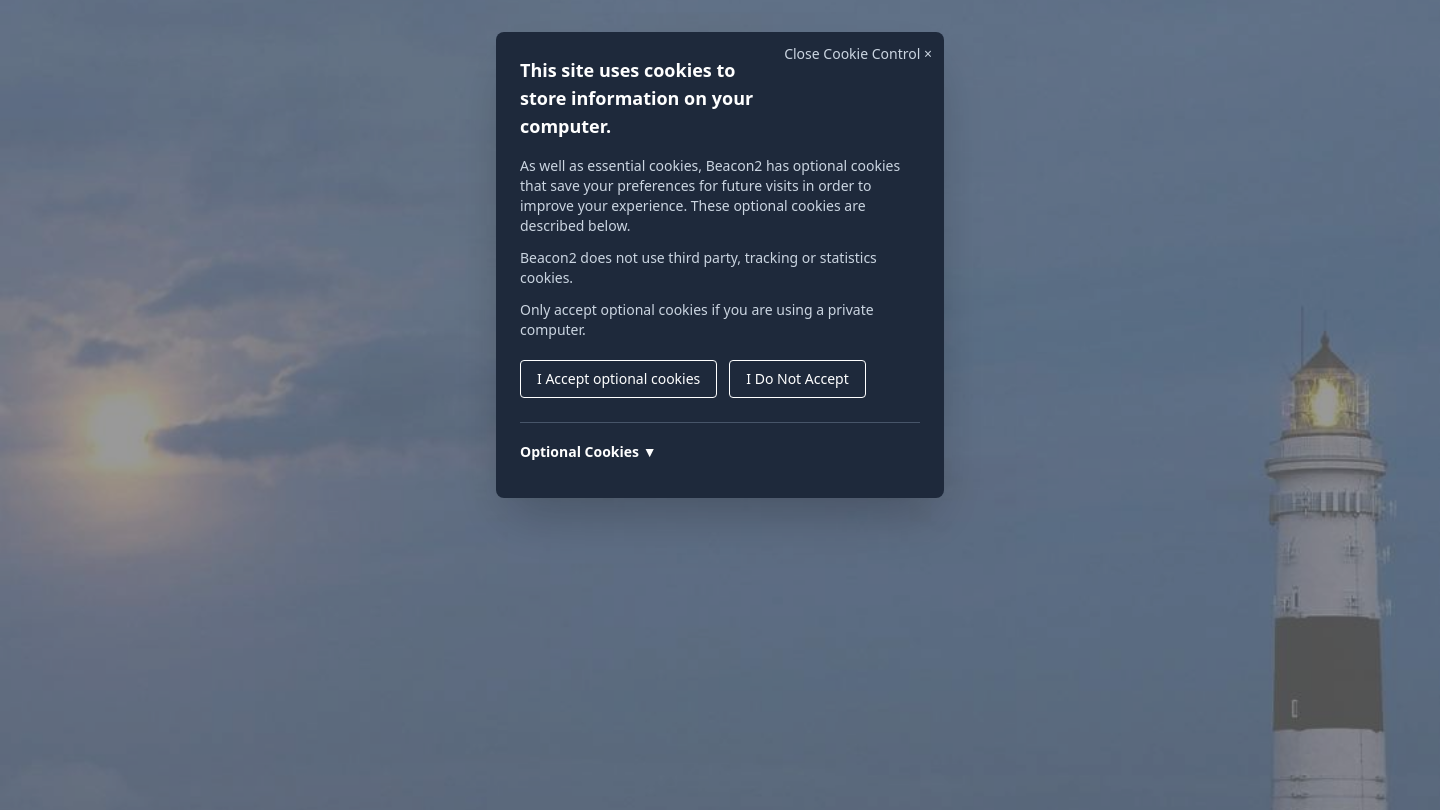
Test: CookieConsent component › hides dialog and records consent on accept
Click the button "I Accept optional cookies": (619, 379) [520, 360, 717, 398]
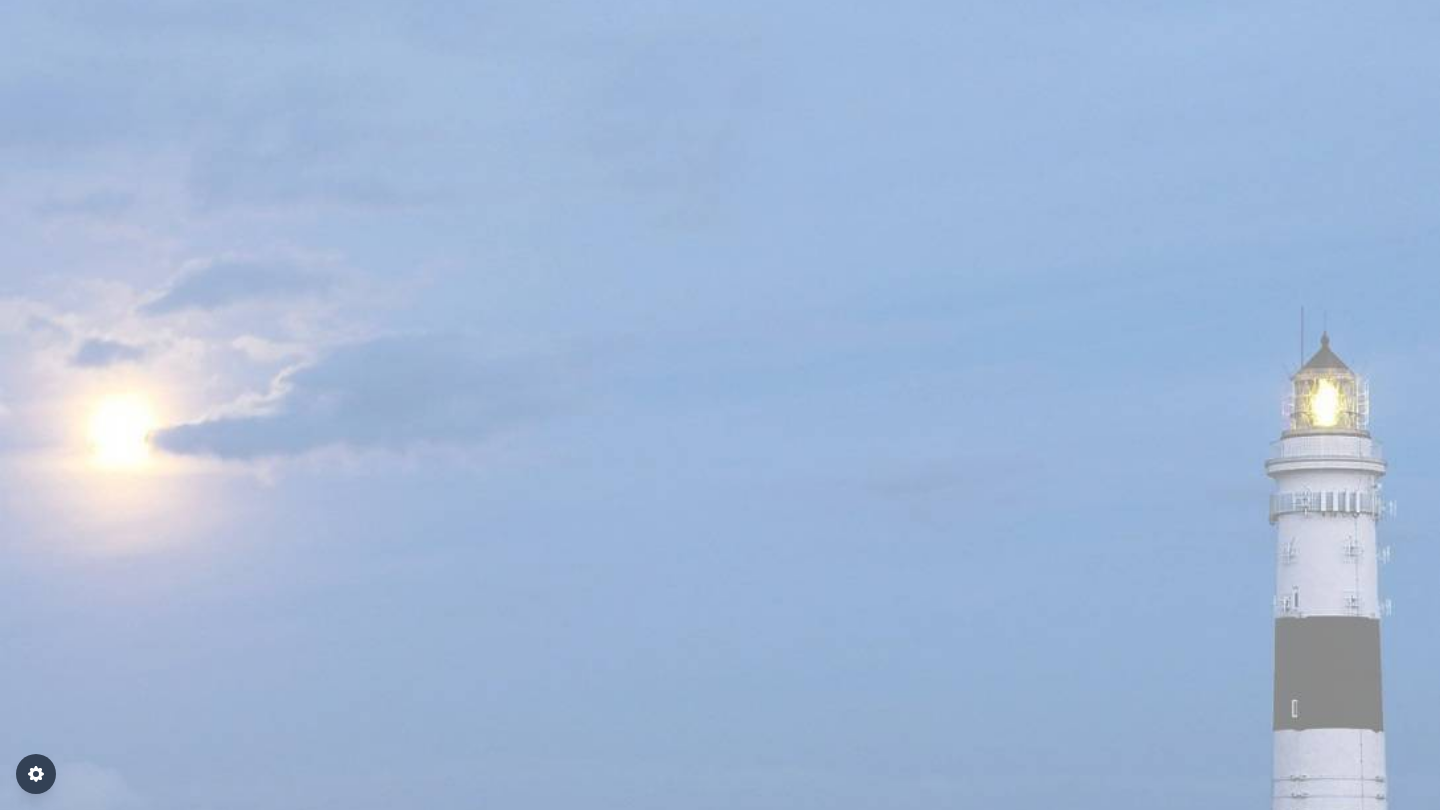
Result: the heading "This site uses cookies to store information on your computer." is gone
